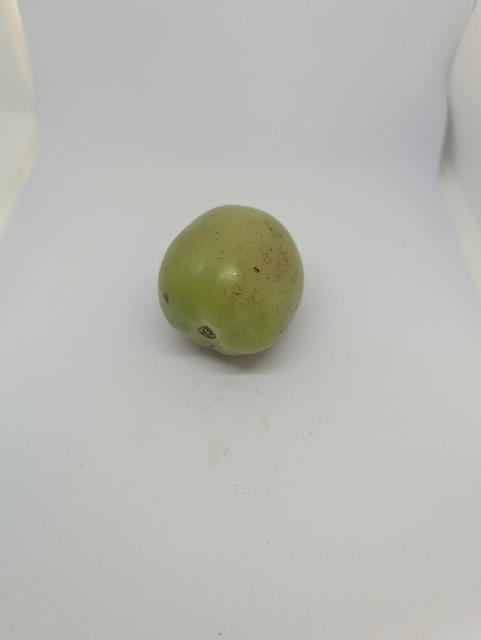green: (152, 192, 314, 370)
